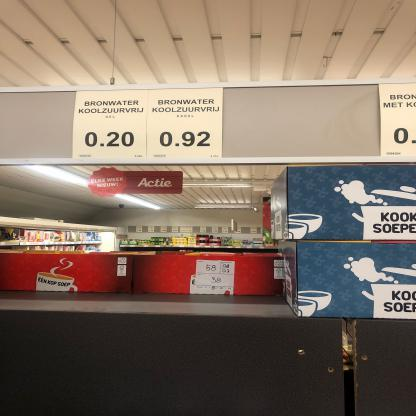prtg: (148, 89, 226, 160), (73, 90, 150, 160), (378, 84, 416, 158)
